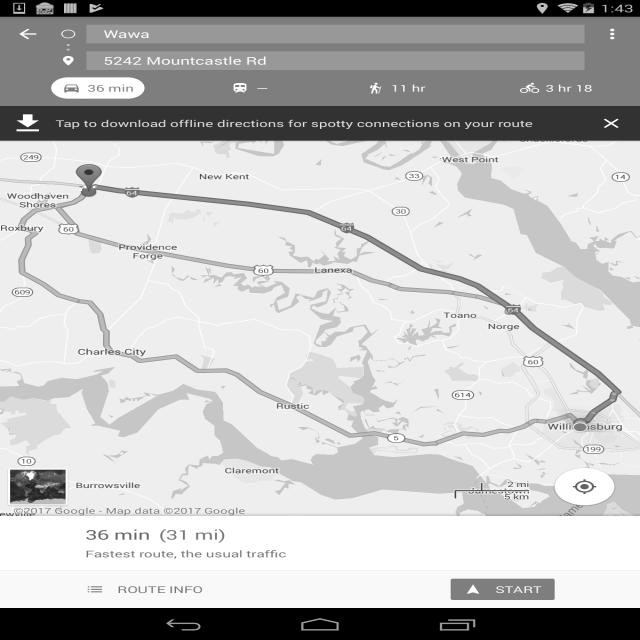Button: (10, 470, 66, 504)
EditText: (86, 17, 584, 47), (86, 47, 584, 77)
ImageView: (550, 465, 619, 508), (10, 470, 66, 504), (8, 112, 47, 136), (587, 25, 638, 43), (12, 25, 42, 43), (54, 38, 81, 57), (56, 51, 81, 70), (56, 25, 81, 43), (598, 115, 624, 132), (94, 595, 119, 611), (230, 82, 250, 94), (62, 82, 81, 94), (520, 82, 539, 94), (463, 584, 482, 596), (366, 82, 384, 94), (86, 584, 104, 596)
TextView: (55, 117, 589, 130), (85, 548, 287, 562), (0, 505, 245, 516), (104, 53, 266, 68), (104, 27, 267, 41), (104, 583, 202, 596), (159, 526, 226, 544), (86, 526, 150, 544), (482, 583, 554, 596), (145, 596, 192, 610), (87, 82, 134, 94), (546, 82, 592, 94), (391, 82, 426, 94), (256, 82, 268, 94)
